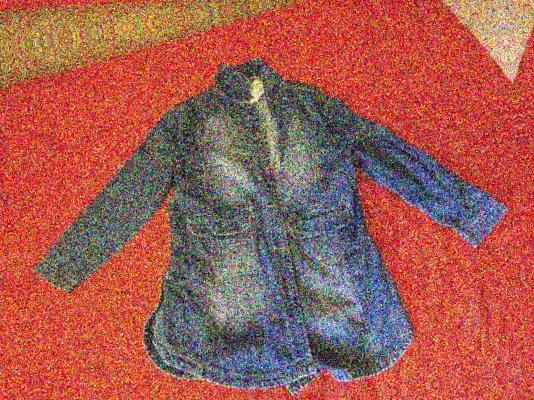Blazer: (13, 27, 534, 400), (71, 377, 534, 400), (0, 114, 21, 400), (524, 0, 534, 352)
